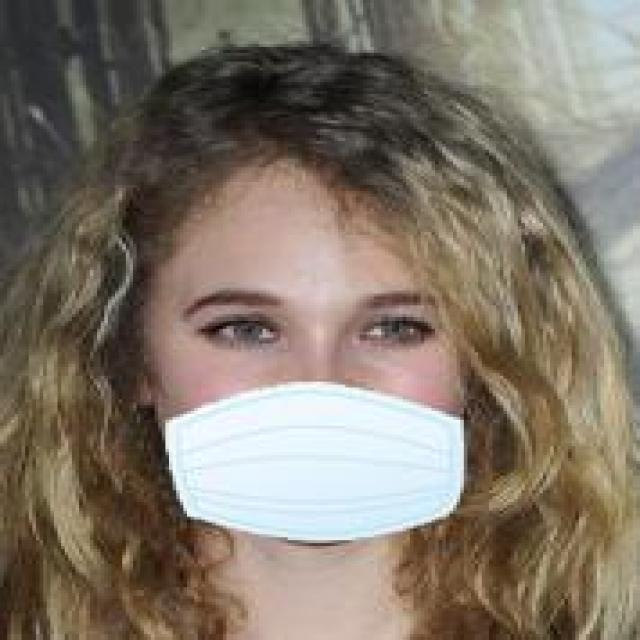mask: (86, 44, 561, 540)
